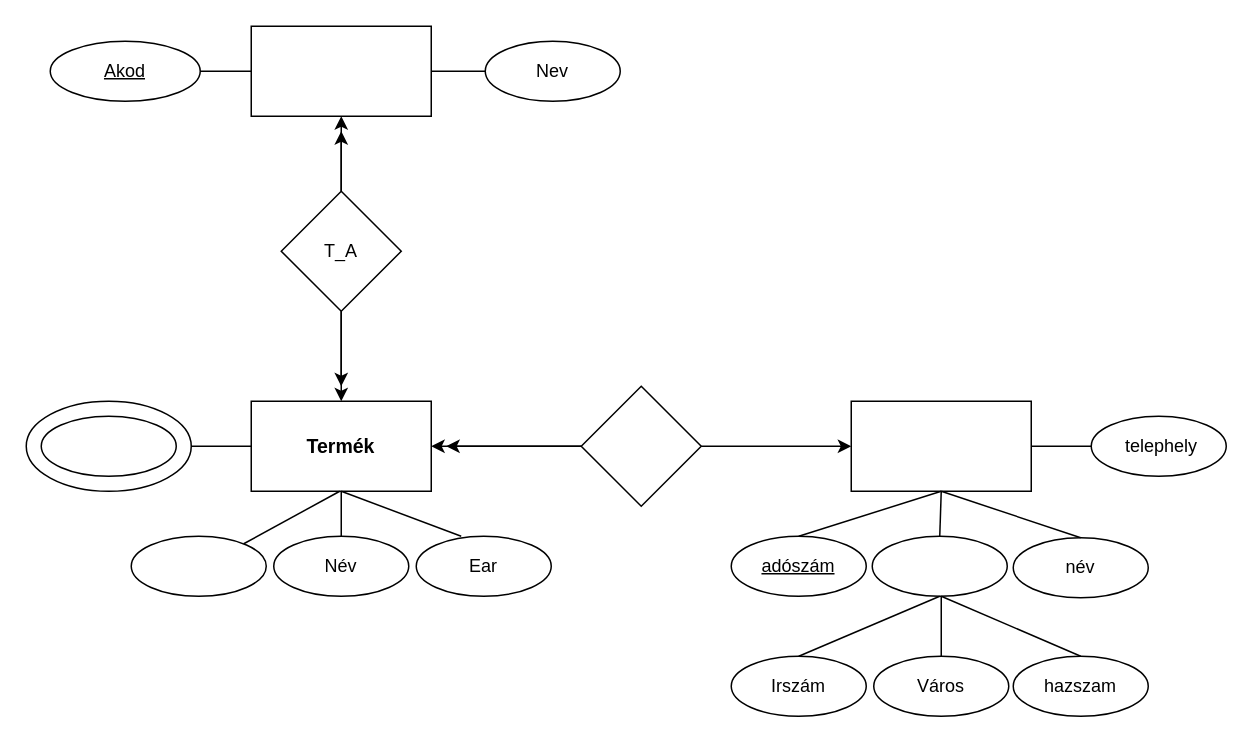
This 1253x743 diagram has some shape labels left out. Each missing label, with the centre of its shape:
"Alkatrész" goes at (340,70).
"Egység_db" goes at (108,445).
"Gyártó" goes at (940,445).
"Postacím" goes at (939,565).
"T-GY" goes at (640,445).
"Tkód" goes at (198,565).
